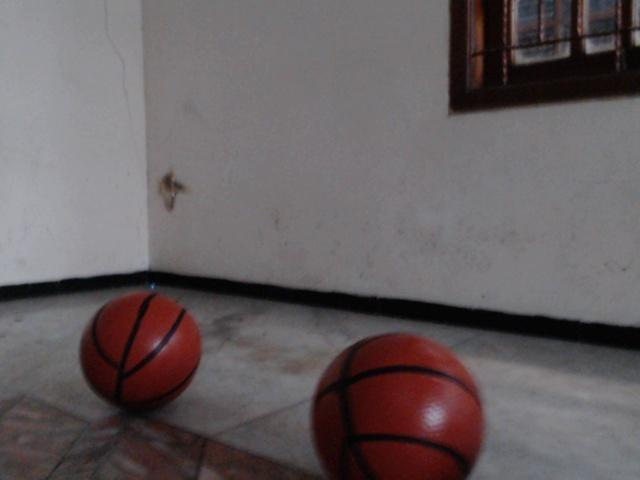Sports-Ball: (305, 332, 483, 480), (73, 290, 208, 413)
